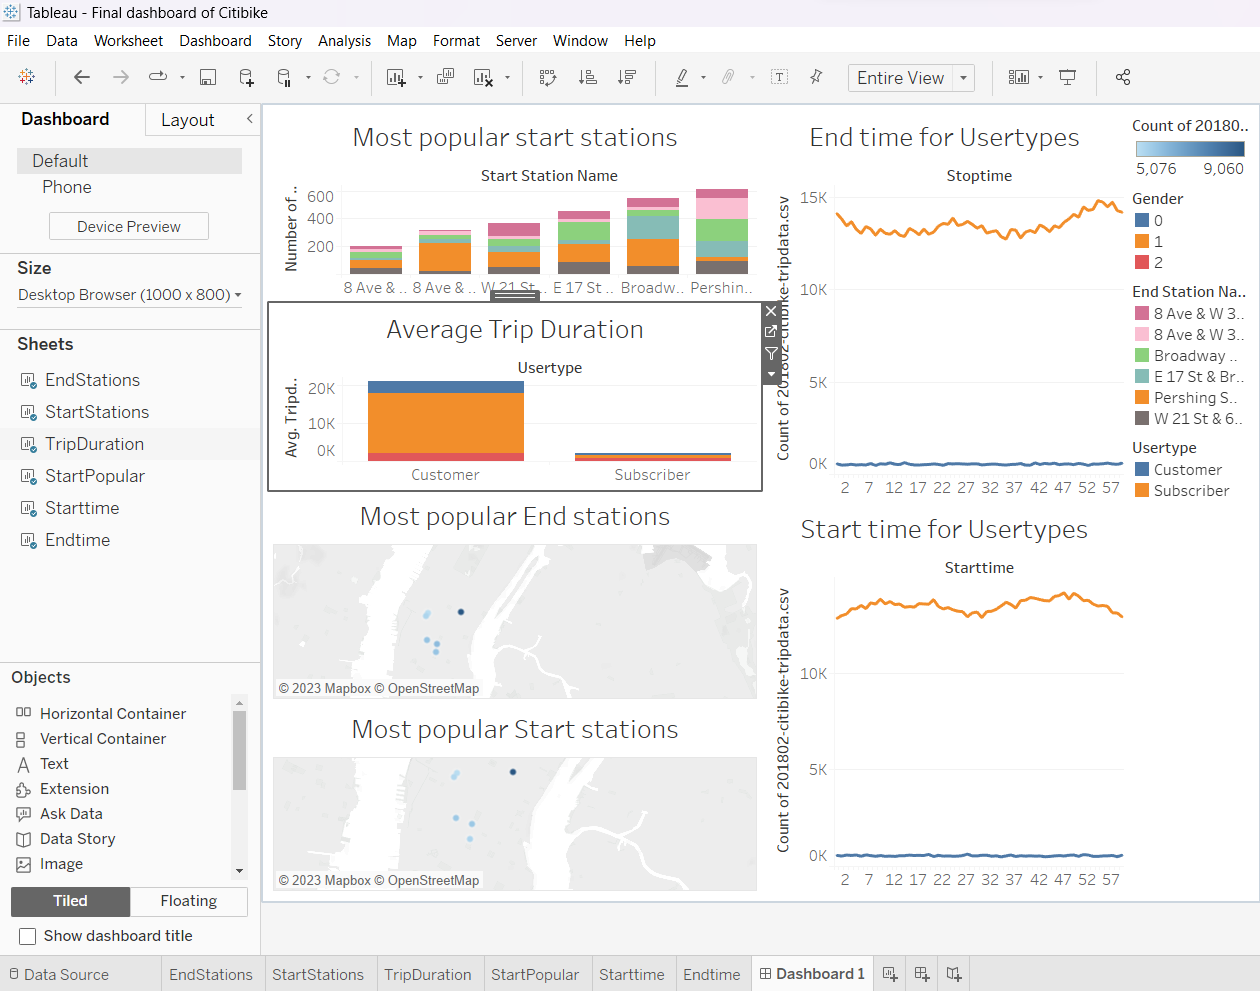

The page's visual inventory and layout, read from the dashboard file:
{"tool":"tableau","page":{"name":"Dashboard 1","canvas":[1000,800],"ordinal":0},"visuals":[{"type":"worksheet","title":"StartPopular","mark":"Automatic","rows":["201802-citibike-tripdata.csv_201E56AD58294D019CFE66145454D18"],"cols":["start station name"],"box":[8,8,492,192]},{"type":"worksheet","title":"Endtime","mark":"Automatic","rows":["201802-citibike-tripdata.csv_201E56AD58294D019CFE66145454D18"],"cols":["stoptime"],"box":[500,8,367,392]},{"type":"legend","title":"EndStations","param":"[federated.02gjf4y1tnpkkf1gypwxk0prx0g6].[__tableau_internal_object_id__].[cnt:2","box":[867,8,125,73]},{"type":"legend","title":"TripDuration","param":"[federated.02gjf4y1tnpkkf1gypwxk0prx0g6].[none:gender:ok]","box":[867,81,125,93]},{"type":"legend","title":"StartPopular","param":"[federated.02gjf4y1tnpkkf1gypwxk0prx0g6].[none:end station name:nk]","box":[867,174,125,156]},{"type":"worksheet","title":"TripDuration","mark":"Automatic","rows":["tripduration"],"cols":["usertype"],"box":[8,200,492,187]},{"type":"legend","title":"Starttime","param":"[federated.02gjf4y1tnpkkf1gypwxk0prx0g6].[none:usertype:nk]","box":[867,330,125,72]},{"type":"worksheet","title":"EndStations","mark":"Automatic","rows":["end station latitude"],"cols":["end station longitude"],"box":[8,387,492,213]},{"type":"worksheet","title":"Starttime","mark":"Automatic","rows":["201802-citibike-tripdata.csv_201E56AD58294D019CFE66145454D18"],"cols":["starttime"],"box":[500,400,367,392]},{"type":"worksheet","title":"StartStations","mark":"Automatic","rows":["start station latitude"],"cols":["start station longitude"],"box":[8,600,492,192]}]}

Visuals, with their boxes on the page's 1000x800 design canvas (x1, y1, x2, y2). These are canvas units, not pixel positions in the 1260x991 screenshot, which may show the page scaled, cropped or inside an application window:
"StartPopular" worksheet: box=[8, 8, 500, 200]
"Endtime" worksheet: box=[500, 8, 867, 400]
"EndStations" legend: box=[867, 8, 992, 81]
"TripDuration" legend: box=[867, 81, 992, 174]
"StartPopular" legend: box=[867, 174, 992, 330]
"TripDuration" worksheet: box=[8, 200, 500, 387]
"Starttime" legend: box=[867, 330, 992, 402]
"EndStations" worksheet: box=[8, 387, 500, 600]
"Starttime" worksheet: box=[500, 400, 867, 792]
"StartStations" worksheet: box=[8, 600, 500, 792]
